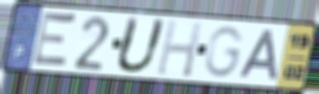2: (73, 12, 112, 73)
A: (236, 28, 280, 83)
E: (30, 8, 80, 71)
G: (203, 24, 247, 79)
H: (154, 18, 205, 79)
U: (112, 14, 170, 75)
